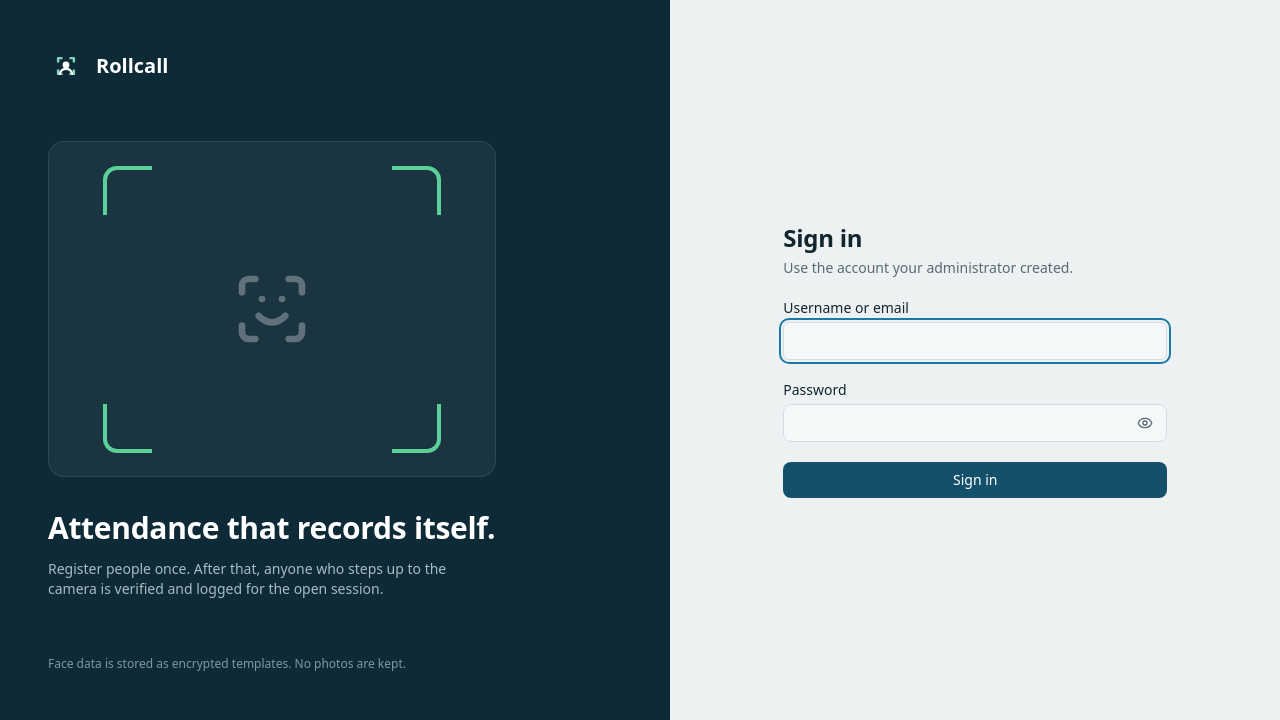
Test: Login › shows a clear error for wrong credentials
Step 1. Type "admin" into the field labelled "Username or email" → (975, 341), box x1=783 y1=322 x2=1167 y2=360
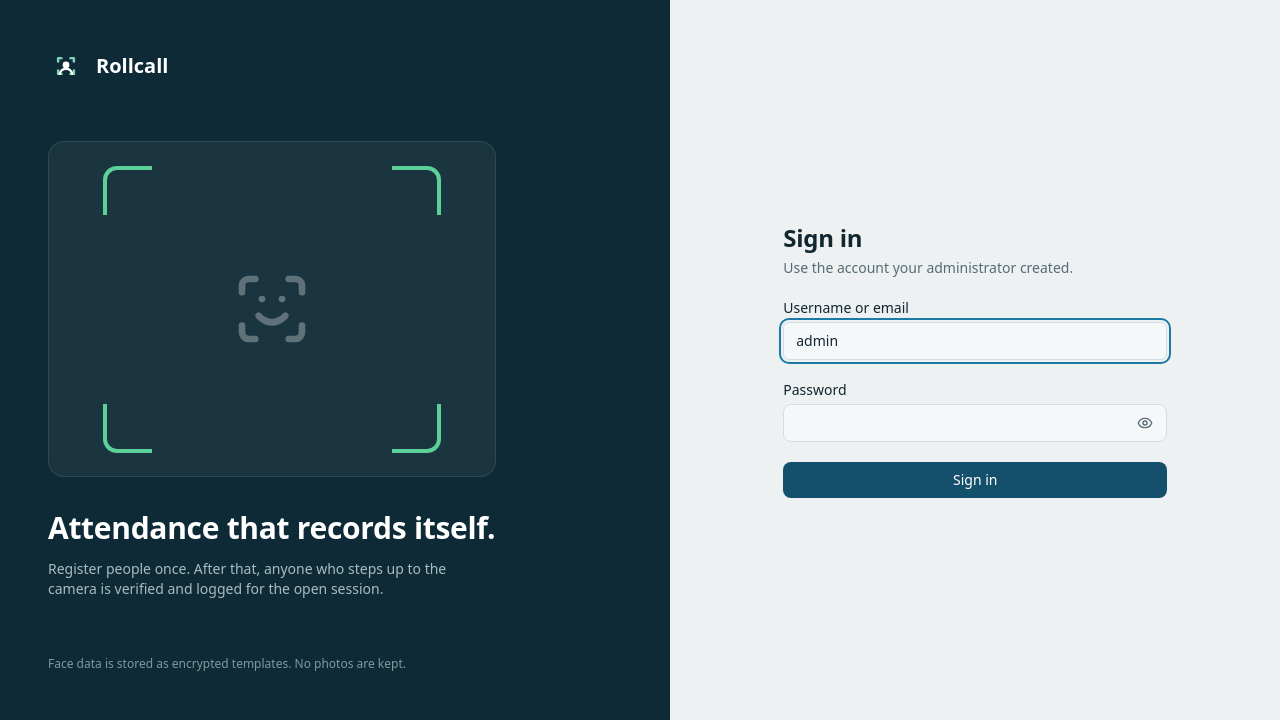
Step 2. Type "wrong-password" into the password field labelled "Password" → (975, 423), box x1=783 y1=404 x2=1167 y2=442
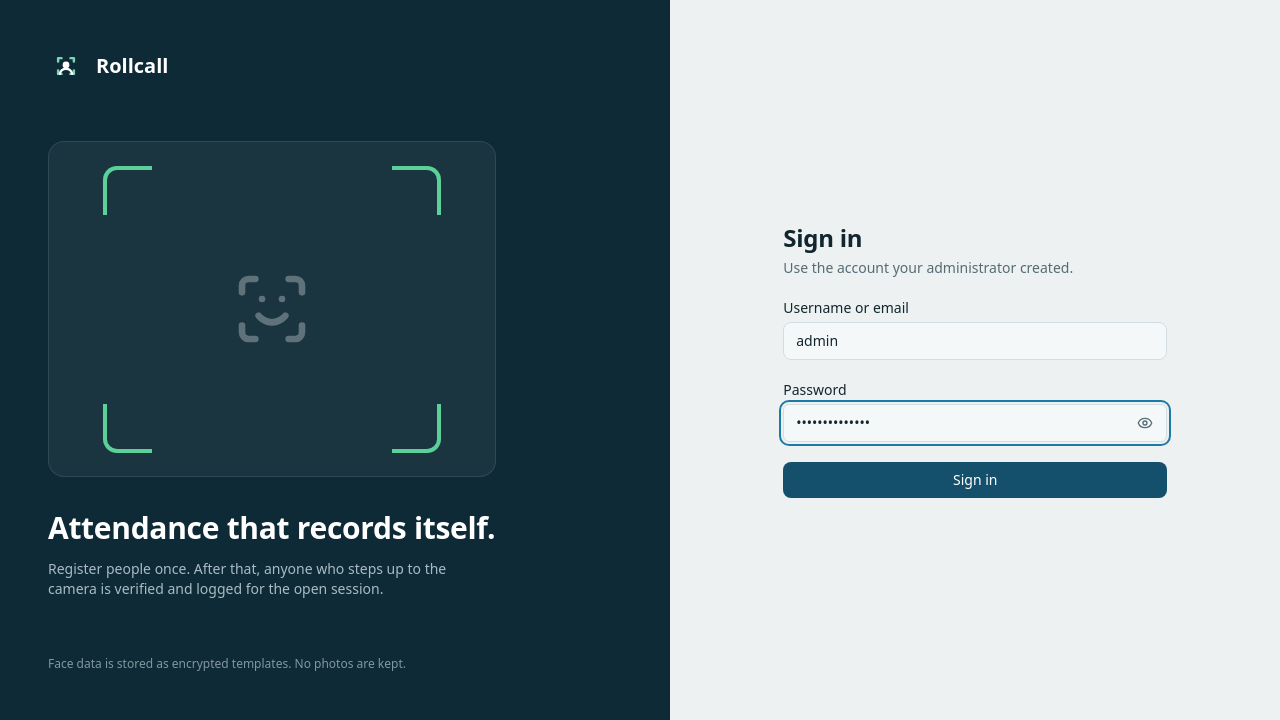
Step 3. Click the button "Sign in" → (975, 480), box x1=783 y1=462 x2=1167 y2=498
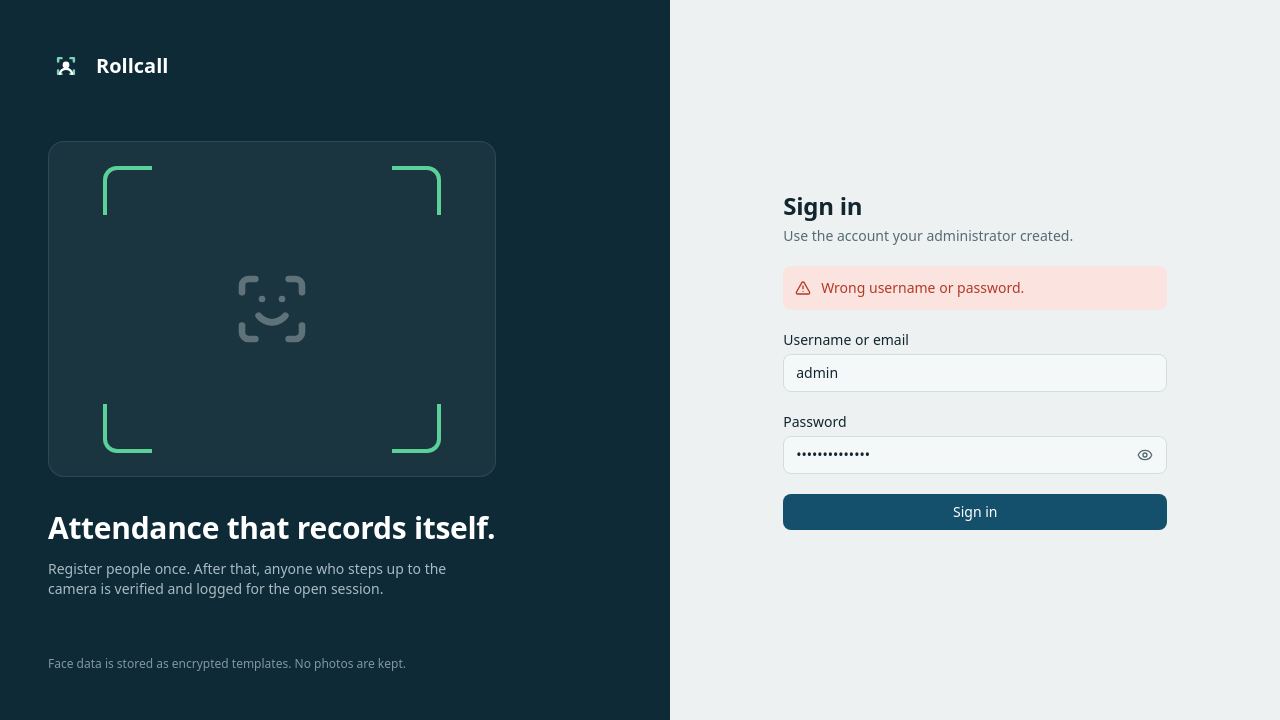
Expected: the text "Wrong username or password." is shown, x1=821 y1=278 x2=1024 y2=298
